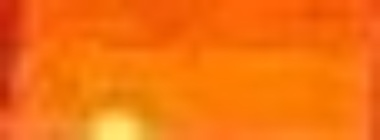Hotspot: (80, 101, 149, 140)
